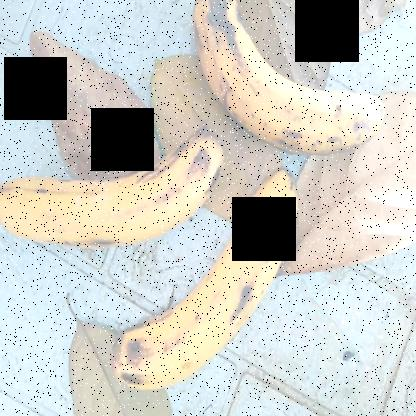overripe: (160, 0, 395, 162), (0, 122, 231, 258)
ripe: (101, 166, 296, 400)
